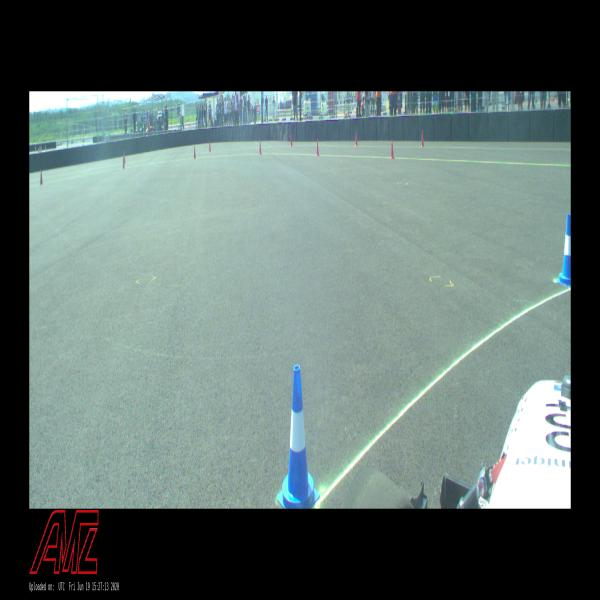blue_cone: (276, 365, 320, 509), (556, 214, 571, 287)
unknown_cone: (390, 140, 394, 159), (316, 139, 319, 156), (40, 169, 43, 184), (355, 132, 358, 146), (421, 132, 424, 146), (290, 134, 293, 146), (259, 140, 261, 155), (194, 146, 196, 159), (123, 156, 125, 168), (209, 141, 211, 152), (124, 153, 126, 163)
